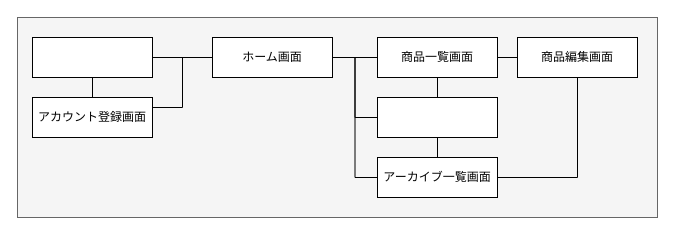
Image size: 675x235. Some labels were removed from this diagram. Here are the shapes that lost their labels. From the top down, the centre of each, then its label:
[92,57]: ログイン画面
[437,117]: 商品登録画面
